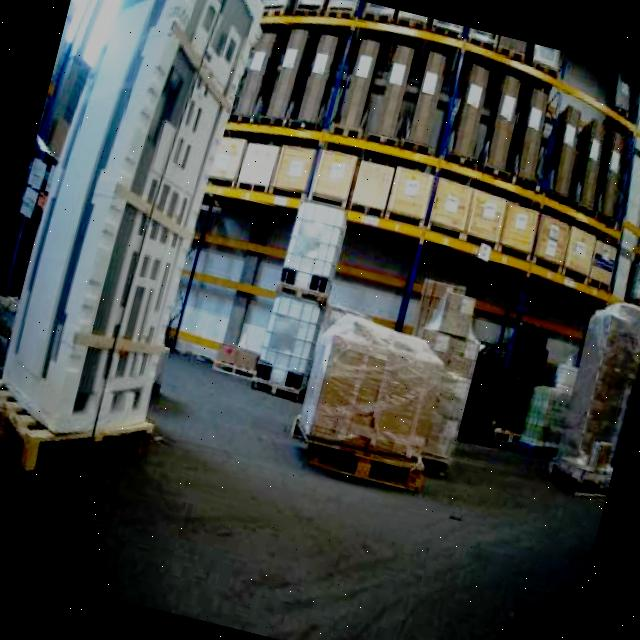ground: (0, 300, 615, 640)
pallet: (158, 0, 640, 478), (202, 109, 640, 305), (284, 305, 458, 494), (378, 274, 493, 476), (542, 292, 640, 502), (0, 378, 156, 499), (298, 429, 426, 493), (543, 448, 613, 502), (210, 340, 260, 378), (0, 288, 21, 376)
